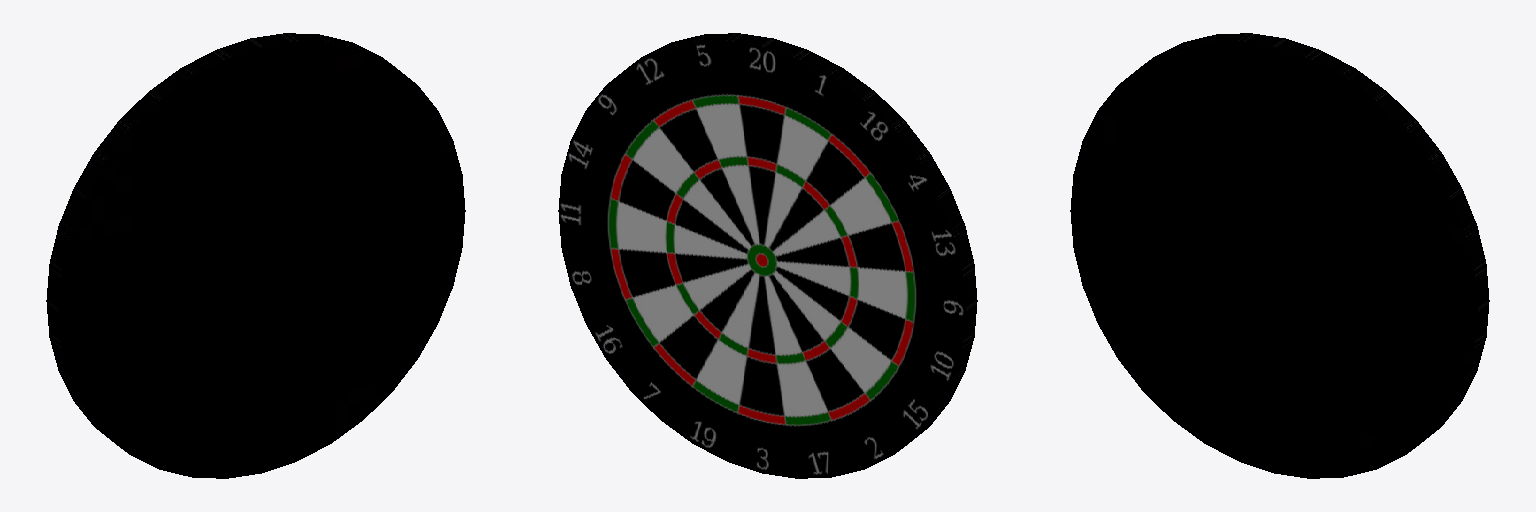
3 views of the same model, side by side, from view 1: azimuth 30°, elevation 25°; view 2: azimuth 150°, elevation 25°; view 3: azimuth 330°, elevation 25° (orthographic).
Parts seen in each view (by area): view 1: dartboard_0; view 2: dartboard_0; view 3: dartboard_0.
Boxes of the visible parts, x1,y1,x2,y2 form: dartboard_0: [46, 33, 465, 478]; dartboard_0: [558, 33, 977, 478]; dartboard_0: [1070, 33, 1489, 478].
Size of the model in its own units: 200 by 200 by 10.
1 materials, 1 textured.